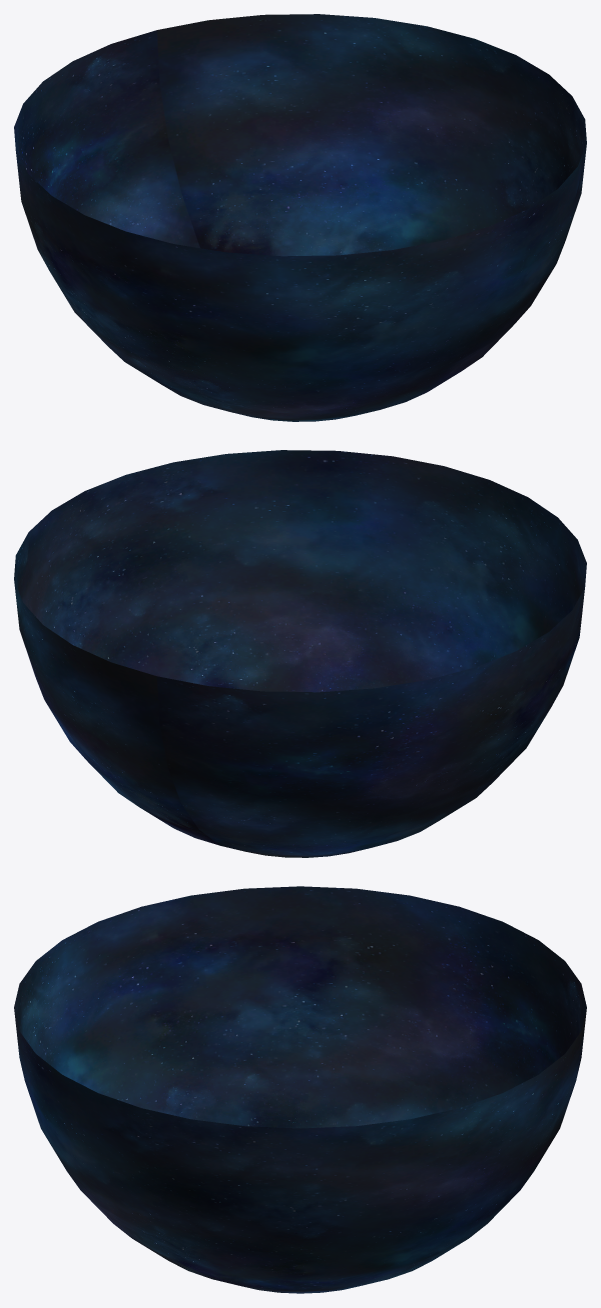
File: skybox.obj
The picture shows the model from 3 angles, top to bottom: view 1: azimuth 30°, elevation 25°; view 2: azimuth 150°, elevation 25°; view 3: azimuth 270°, elevation 25°; orthographic projection.
Parts seen in each view (by area): view 1: Storm_Doodad_Heaven_Skybox_0; view 2: Storm_Doodad_Heaven_Skybox_0; view 3: Storm_Doodad_Heaven_Skybox_0.
Boxes of the visible parts, bbox=[...] form: Storm_Doodad_Heaven_Skybox_0: bbox=[14, 14, 586, 421]; Storm_Doodad_Heaven_Skybox_0: bbox=[14, 450, 586, 857]; Storm_Doodad_Heaven_Skybox_0: bbox=[14, 886, 586, 1293].
Size of the model in its own units: 4352 by 2176 by 4352.
Materials: 1 (1 with a texture image).
